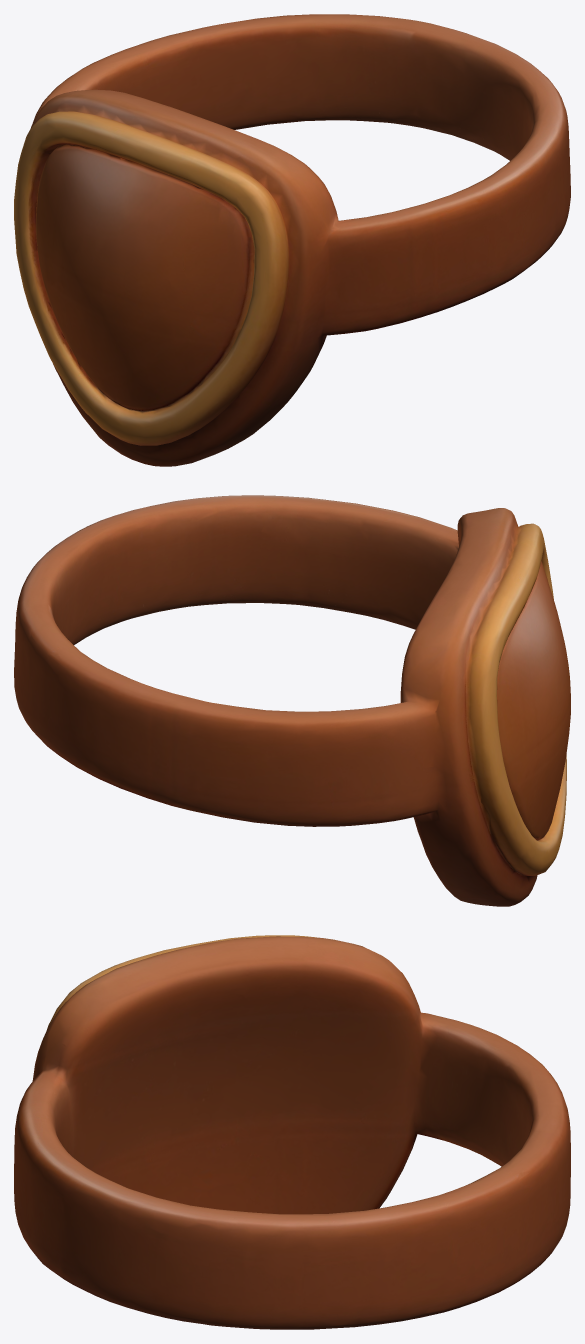
Rendered from cs-pirate-patch.glb.
3 views of the same model, one above another, from view 1: azimuth 30°, elevation 25°; view 2: azimuth 150°, elevation 25°; view 3: azimuth 270°, elevation 25° (orthographic). The views are drawn at different scales.
Parts seen in each view (by area): view 1: tripo_node_fb96373f-0501-4bcb-b7f8-9f12c2a36100; view 2: tripo_node_fb96373f-0501-4bcb-b7f8-9f12c2a36100; view 3: tripo_node_fb96373f-0501-4bcb-b7f8-9f12c2a36100.
Part boxes in pixels (<box>): tripo_node_fb96373f-0501-4bcb-b7f8-9f12c2a36100: <box>14,14,570,466</box>; tripo_node_fb96373f-0501-4bcb-b7f8-9f12c2a36100: <box>14,495,570,906</box>; tripo_node_fb96373f-0501-4bcb-b7f8-9f12c2a36100: <box>14,935,570,1329</box>.
Size of the model in its own units: 1 by 0.665 by 0.9246.
Materials: 1 (1 with a texture image).
